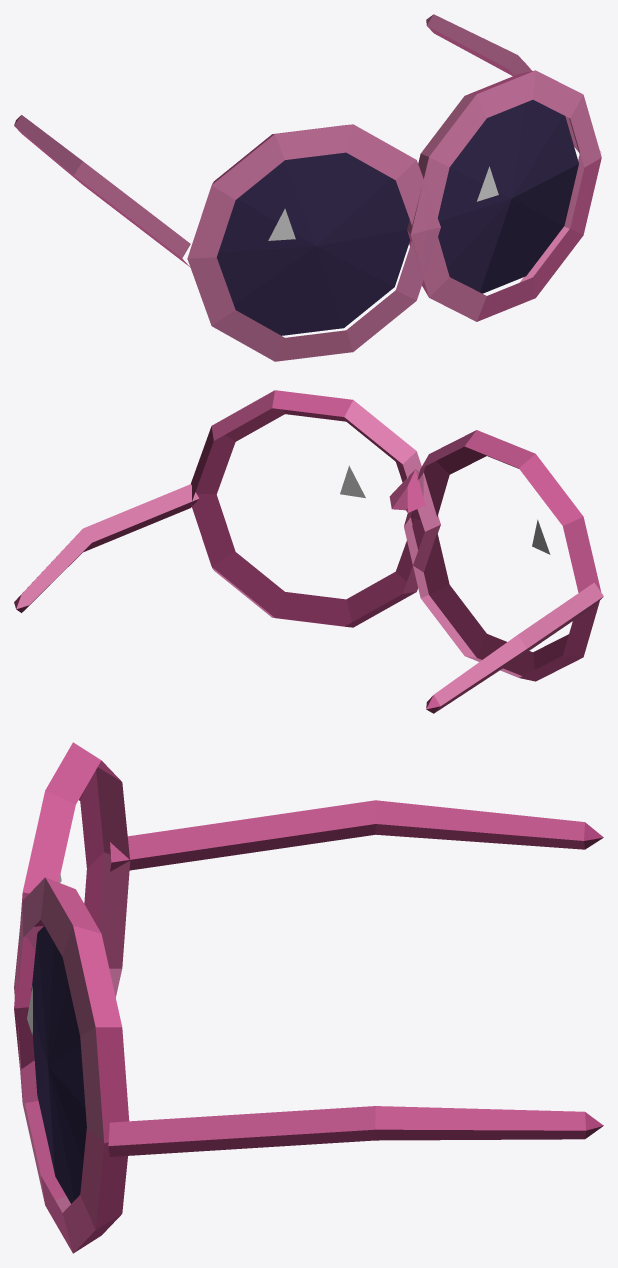
The model's file is sunglasses.glb.
The picture shows the model from 3 angles, top to bottom: view 1: azimuth 30°, elevation 25°; view 2: azimuth 150°, elevation 25°; view 3: azimuth 270°, elevation 25°; orthographic projection. The views are drawn at different scales.
Parts seen in each view (by area): view 1: sunglasses; view 2: sunglasses; view 3: sunglasses.
Part boxes in pixels (x1,y1,x2,y2): sunglasses: (14,14,601,361); sunglasses: (14,390,603,713); sunglasses: (14,742,603,1253).
Size of the model in its own units: 1.98 by 0.9511 by 1.55.
